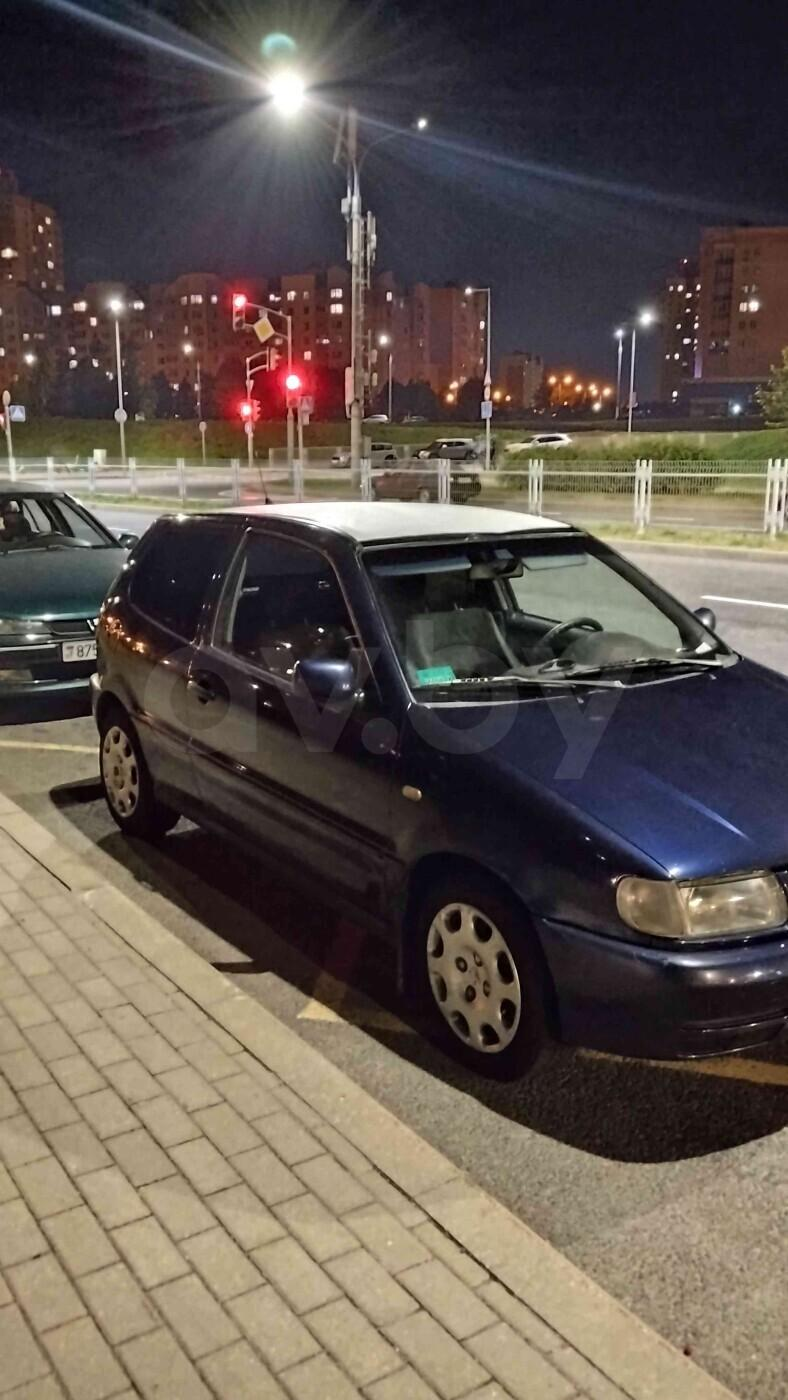Polo_1994-2002: (52, 487, 787, 1128)
